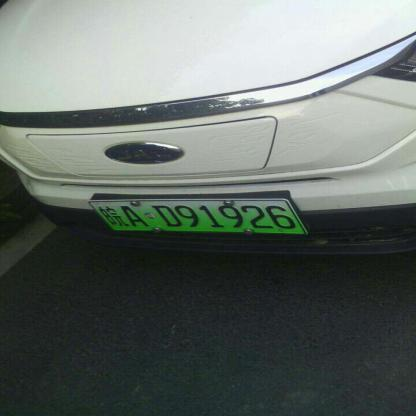lp: (90, 199, 305, 233)
